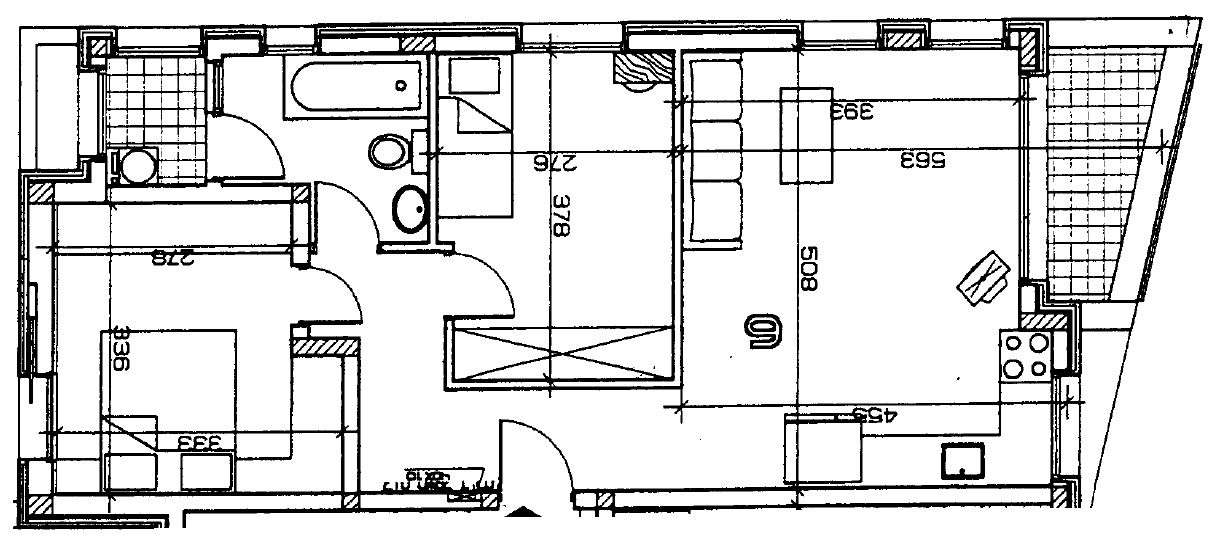door: (488, 408, 579, 474), (313, 168, 383, 244), (231, 105, 300, 181), (462, 248, 528, 325), (319, 259, 379, 331)
